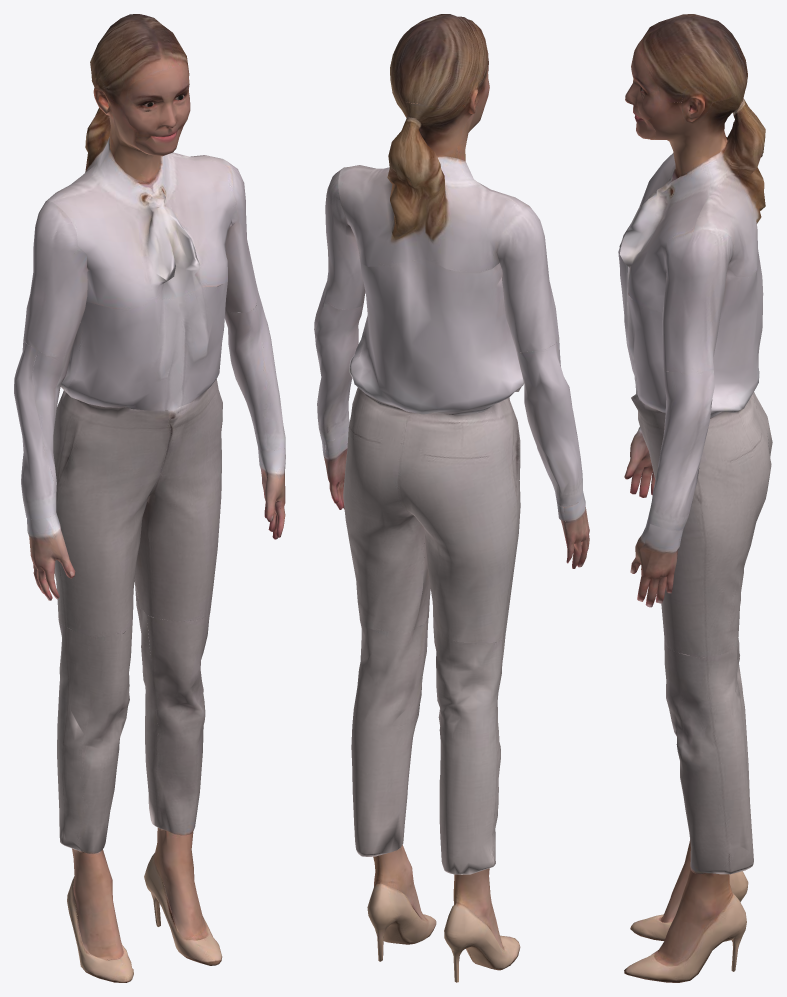
The model's file is sf_woman_office.glb.
3 renders of one model, left to right at view 1: azimuth 30°, elevation 25°; view 2: azimuth 150°, elevation 25°; view 3: azimuth 270°, elevation 25°, orthographic.
Visible parts, largest first — view 1: sf_woman_office; view 2: sf_woman_office; view 3: sf_woman_office.
Boxes of the visible parts, x1,y1,x2,y2 form: sf_woman_office: (14, 14, 285, 982); sf_woman_office: (314, 14, 589, 982); sf_woman_office: (618, 14, 772, 982).
Size of the model in its own units: 0.4587 by 1.6 by 0.2384.
1 material, 1 textured.
